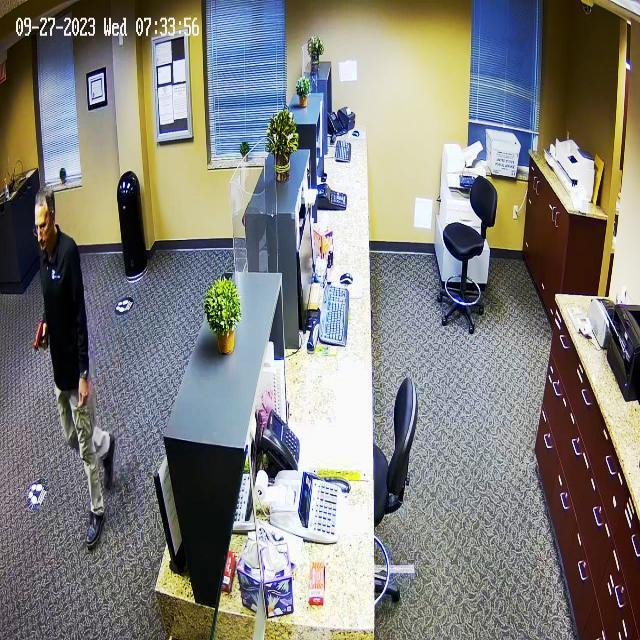Gun: (22, 311, 61, 361)
